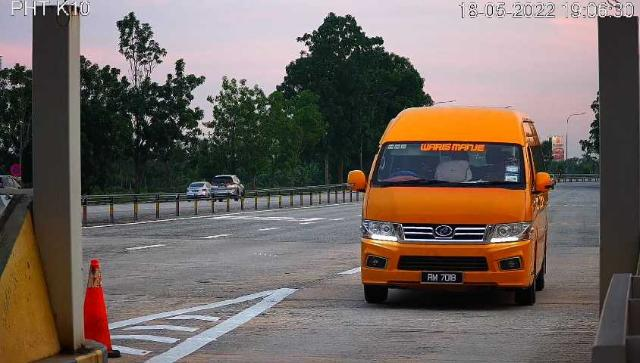License_Plate: (427, 270, 461, 287)
van: (361, 108, 550, 307)
